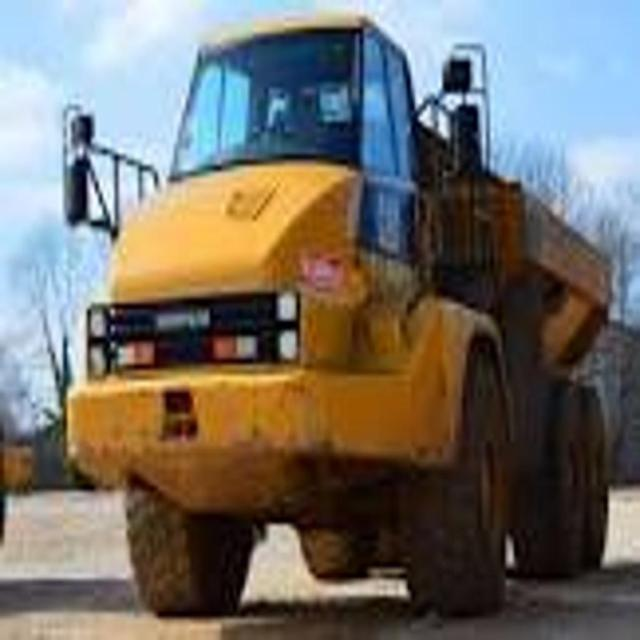dump_truck: (57, 0, 617, 621)
